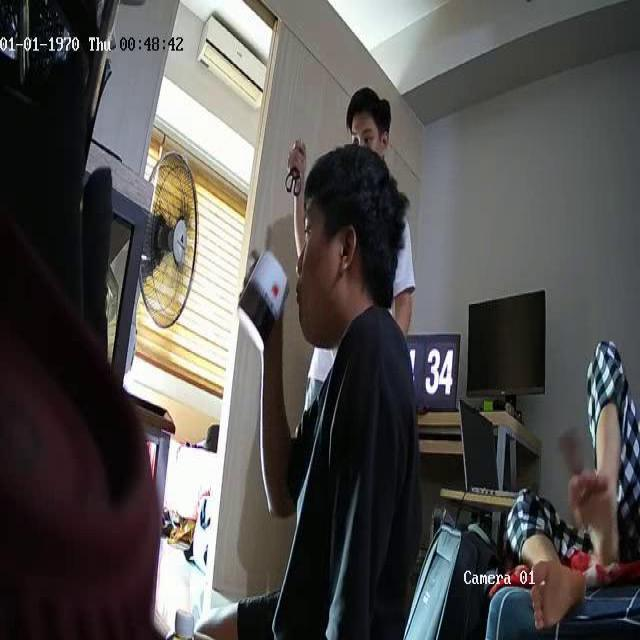scissor: (284, 139, 302, 196)
